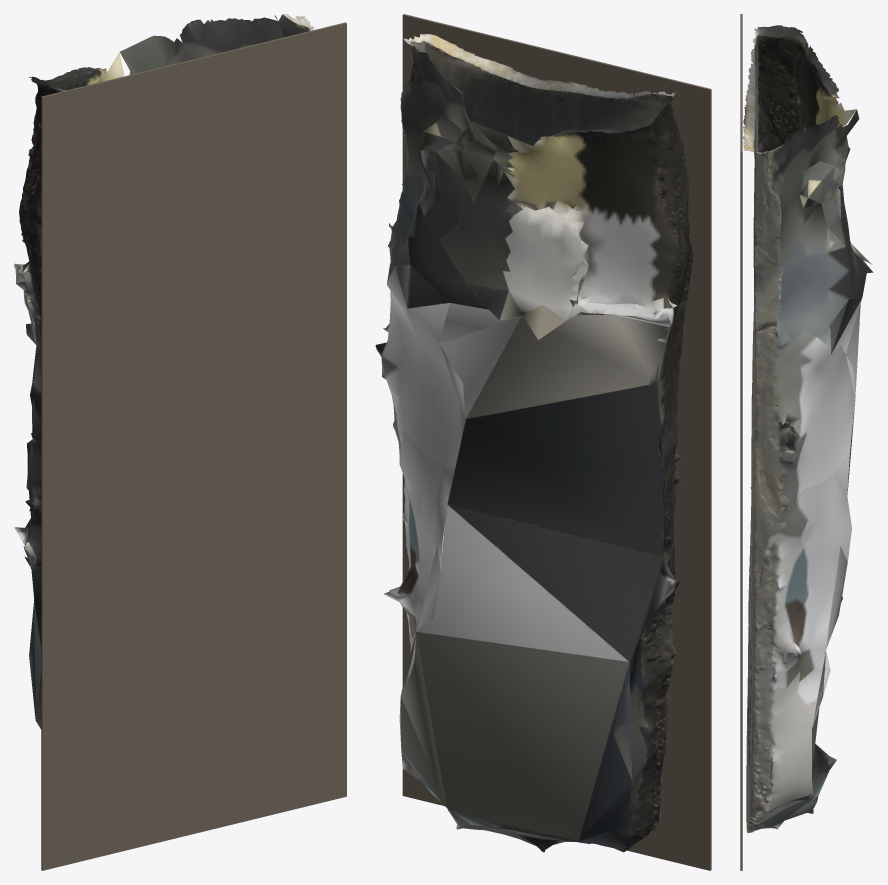
File: SacredRelic_Fractured.fbx
3 views of the same model, side by side, from view 1: azimuth 30°, elevation 25°; view 2: azimuth 150°, elevation 25°; view 3: azimuth 270°, elevation 25° (orthographic). The views are drawn at different scales.
Visible parts, largest first — view 1: Relic_Core, Shell_Piece_031, Shell_Piece_021, Shell_Piece_026, Shell_Piece_027, Shell_Piece_035, Shell_Piece_028, Shell_Piece_033, Shell_Piece_036, Shell_Piece_029, Shell_Piece_018, Shell_Piece_017 (+27 smaller); view 2: Relic_Core, Shell_Piece_034, Shell_Piece_023, Shell_Piece_033, Shell_Piece_015, Shell_Piece_012, Shell_Piece_035, Shell_Piece_029, Shell_Piece_011, Shell_Piece_037, Shell_Piece_024, Shell_Piece_036 (+2 smaller); view 3: Relic_Core, Shell_Piece_029, Shell_Piece_025, Shell_Piece_013.
Boxes of the visible parts, x1,y1,x2,y2 form: Relic_Core: (14, 14, 314, 729); Shell_Piece_031: (187, 664, 343, 796); Shell_Piece_021: (158, 583, 284, 721); Shell_Piece_026: (74, 634, 197, 764); Shell_Piece_027: (124, 116, 247, 240); Shell_Piece_035: (41, 753, 182, 870); Shell_Piece_028: (247, 94, 346, 215); Shell_Piece_033: (107, 49, 239, 152); Shell_Piece_036: (41, 95, 143, 221); Shell_Piece_029: (237, 22, 346, 124); Shell_Piece_018: (193, 175, 299, 290); Shell_Piece_017: (72, 541, 175, 651); Relic_Core: (375, 34, 693, 852); Shell_Piece_034: (662, 707, 711, 851); Shell_Piece_023: (668, 606, 711, 712); Shell_Piece_033: (512, 41, 645, 95); Shell_Piece_015: (673, 513, 711, 614); Shell_Piece_012: (674, 423, 711, 519); Shell_Piece_035: (627, 786, 711, 870); Shell_Piece_029: (402, 14, 513, 86); Shell_Piece_011: (677, 353, 711, 437); Shell_Piece_037: (642, 72, 711, 145); Shell_Piece_024: (687, 204, 711, 314); Shell_Piece_036: (643, 87, 711, 209); Relic_Core: (742, 25, 873, 832); Shell_Piece_029: (740, 102, 742, 217); Shell_Piece_025: (740, 682, 742, 794); Shell_Piece_013: (740, 307, 742, 416).
Bounding box in the file's own units: 6.67 × 16.2 × 2.72.
2 materials, 1 textured.
